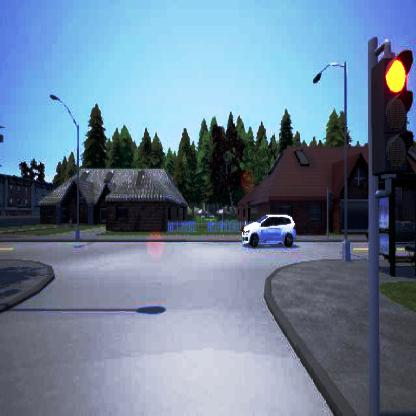vehicle: (241, 214, 296, 247), (395, 220, 414, 243)
